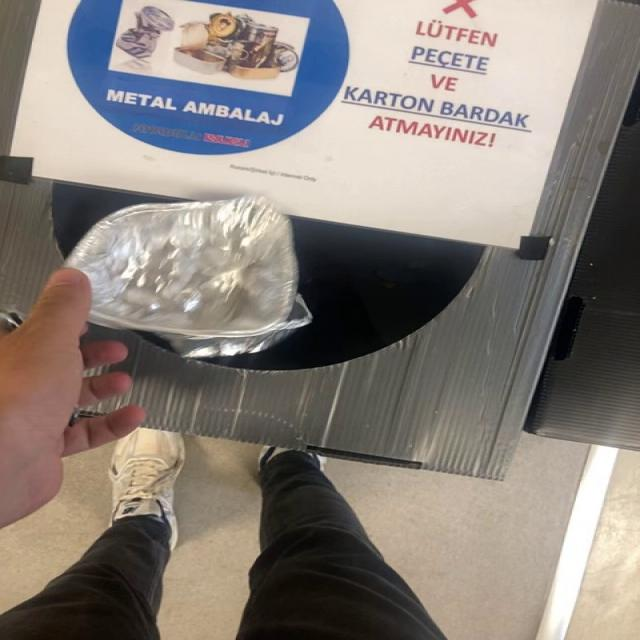metal: (64, 195, 312, 358)
